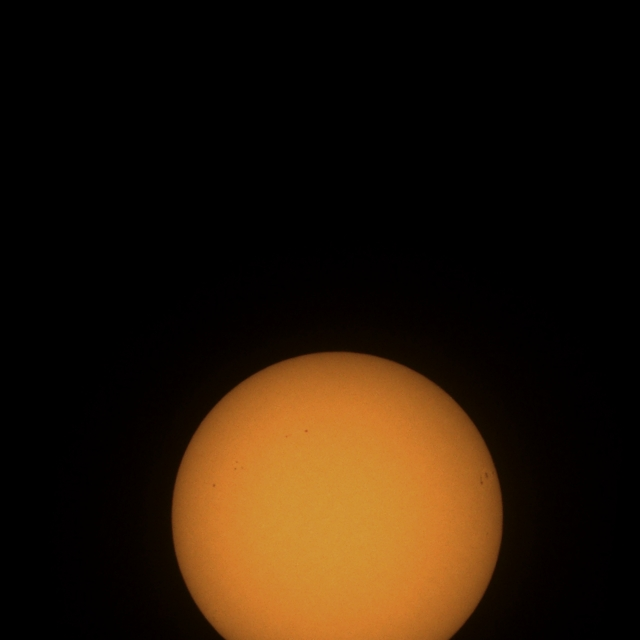sunspot: (479, 470, 490, 486), (233, 460, 243, 472), (233, 460, 240, 468), (304, 428, 309, 434), (212, 483, 217, 488)
